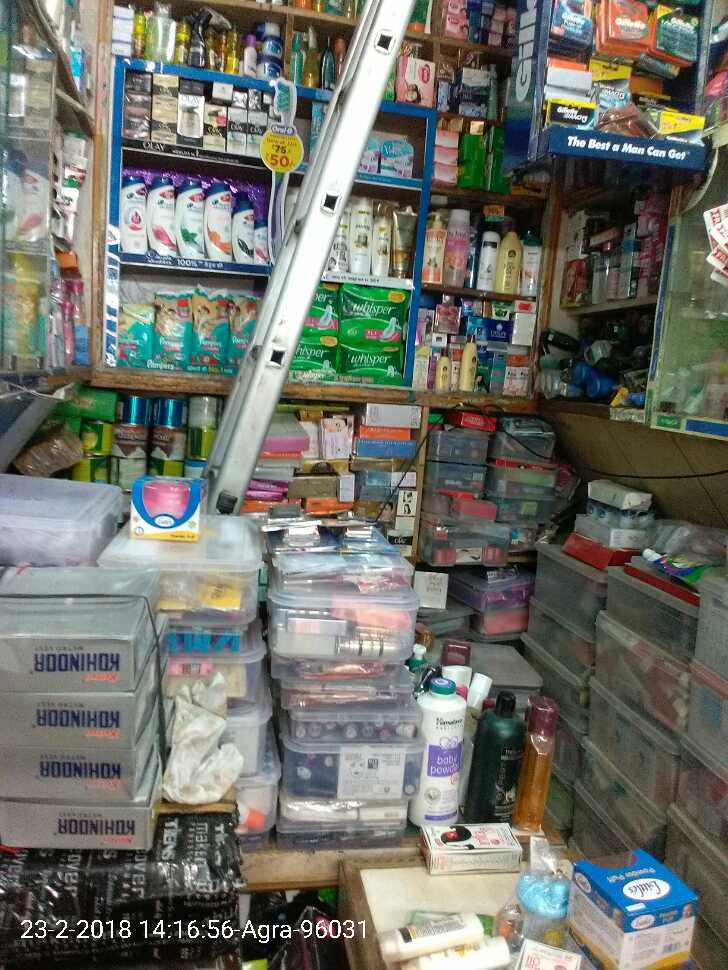gillete: (655, 7, 696, 59), (596, 66, 634, 122), (604, 1, 645, 50), (553, 1, 593, 47), (656, 113, 705, 139), (550, 101, 594, 128)
